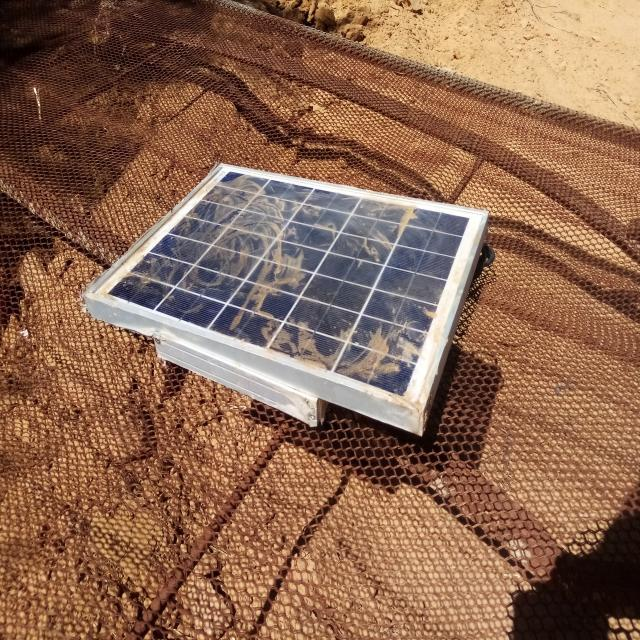faulty: (87, 164, 487, 408)
